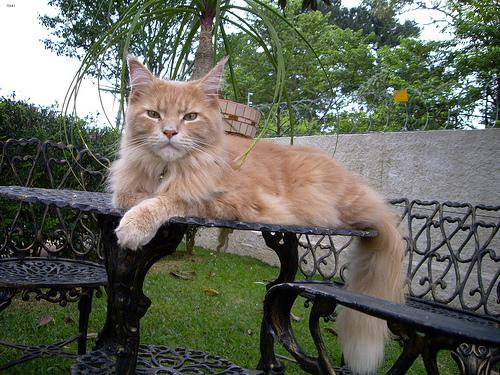cat-Maine_Coon: (125, 54, 228, 160)
